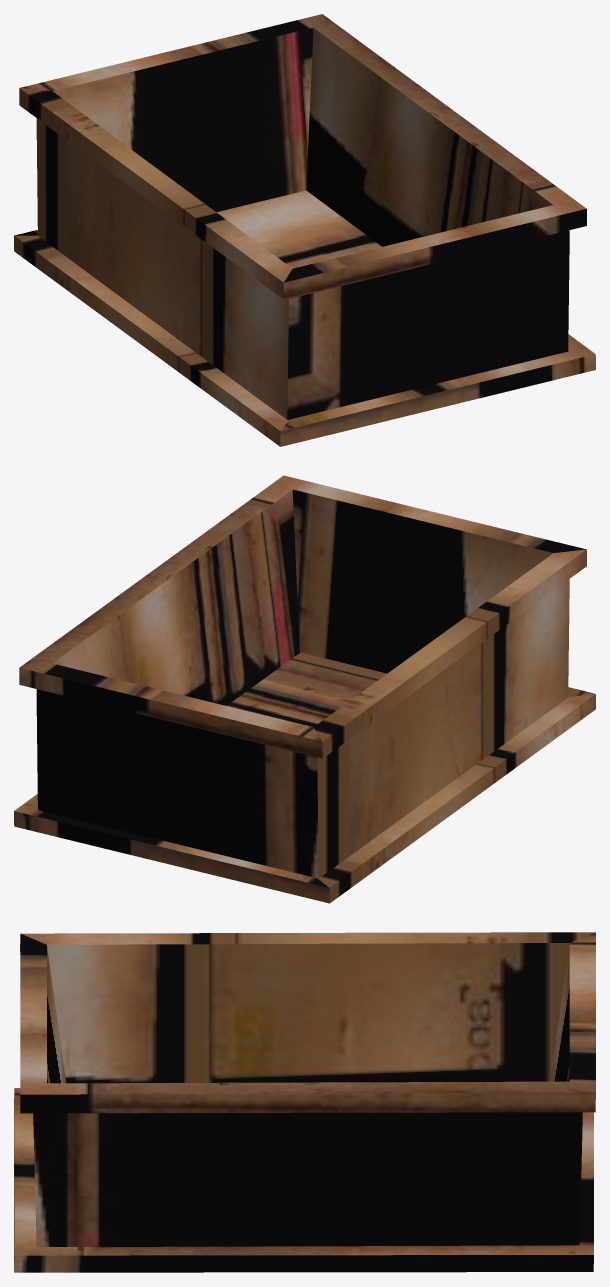
The model's file is skip2.glb.
The picture shows the model from 3 angles, top to bottom: view 1: azimuth 30°, elevation 25°; view 2: azimuth 150°, elevation 25°; view 3: azimuth 270°, elevation 25°; orthographic projection. The views are drawn at different scales.
Visible parts, largest first — view 1: Skip2; view 2: Skip2; view 3: Skip2.
Part boxes in pixels (box(x1,y1,x2,y2)): Skip2: box(14, 14, 595, 446); Skip2: box(14, 475, 595, 903); Skip2: box(14, 932, 595, 1272).
Size of the model in its own units: 2.97 by 1.46 by 4.36.
Materials: 1 (1 with a texture image).
